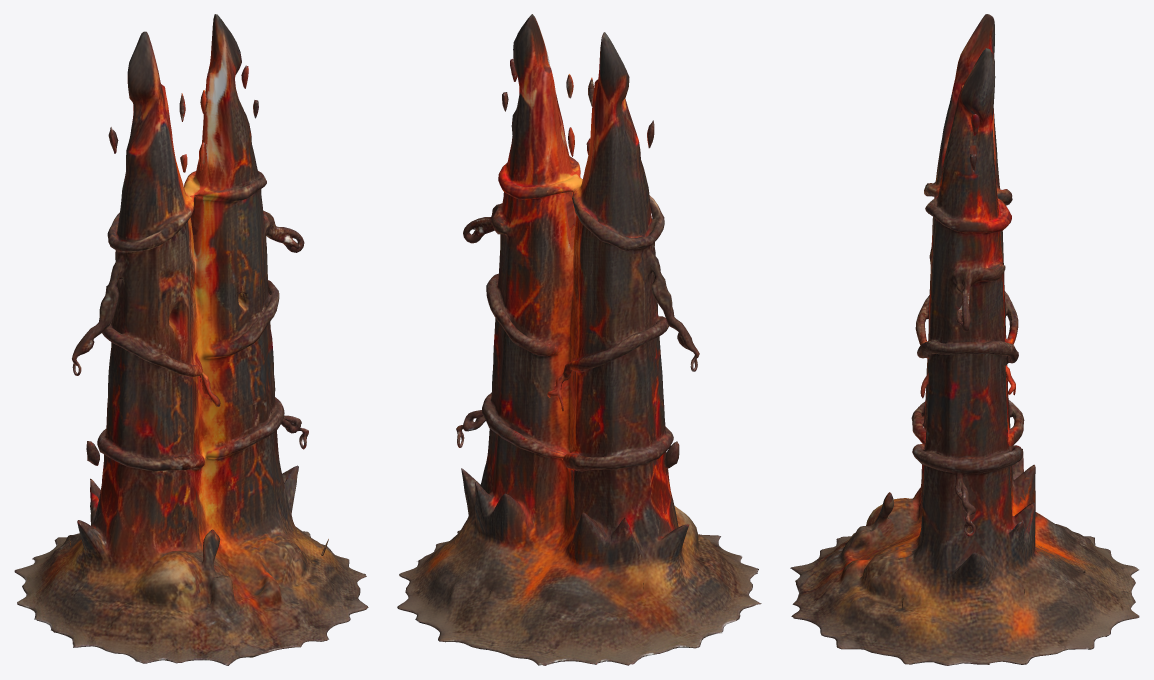
The model's file is ksB-rodin.glb.
The picture shows the model from 3 angles, left to right: view 1: azimuth 30°, elevation 25°; view 2: azimuth 150°, elevation 25°; view 3: azimuth 270°, elevation 25°; orthographic projection. The views are drawn at different scales.
Parts seen in each view (by area): view 1: model; view 2: model; view 3: model.
Boxes of the visible parts, left/top/right/bottom form: model: left=14, top=14, right=368, bottom=665; model: left=397, top=14, right=761, bottom=665; model: left=790, top=14, right=1139, bottom=665.
Size of the model in its own units: 1.04 by 1.87 by 1.05.
Materials: 1 (1 with a texture image).
